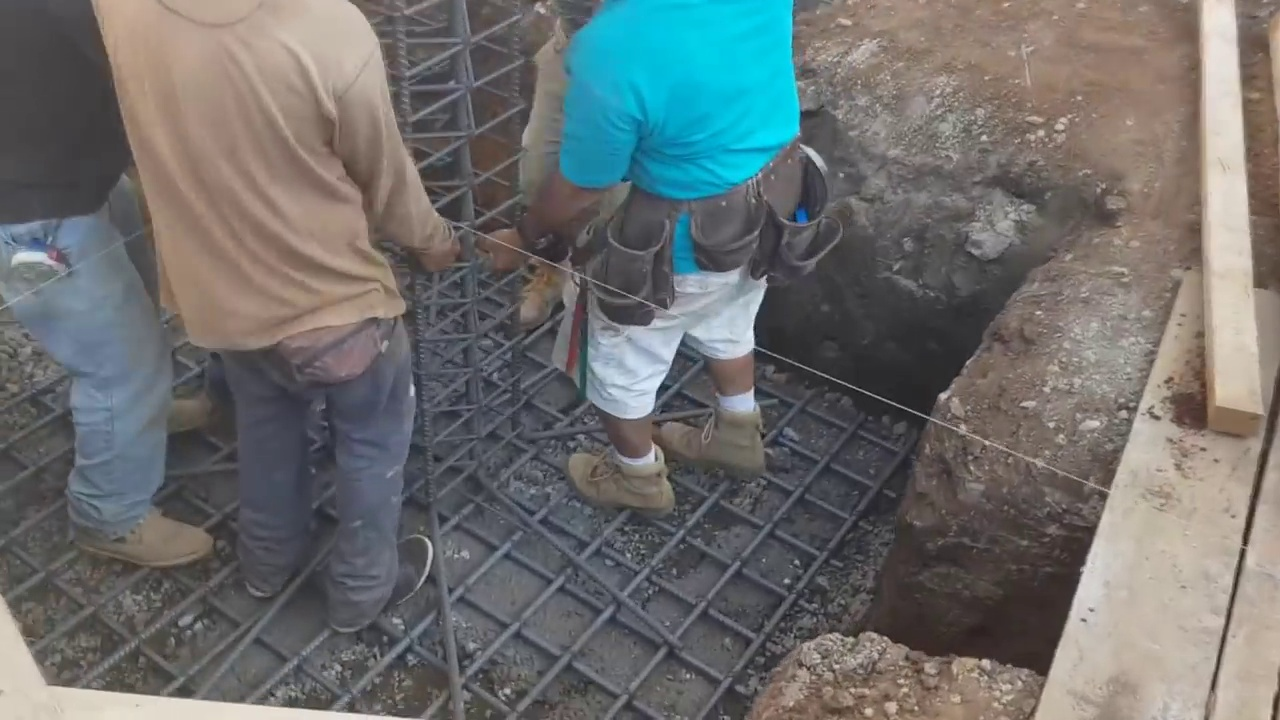person: (92, 2, 466, 633), (480, 2, 805, 522), (0, 0, 218, 596)
